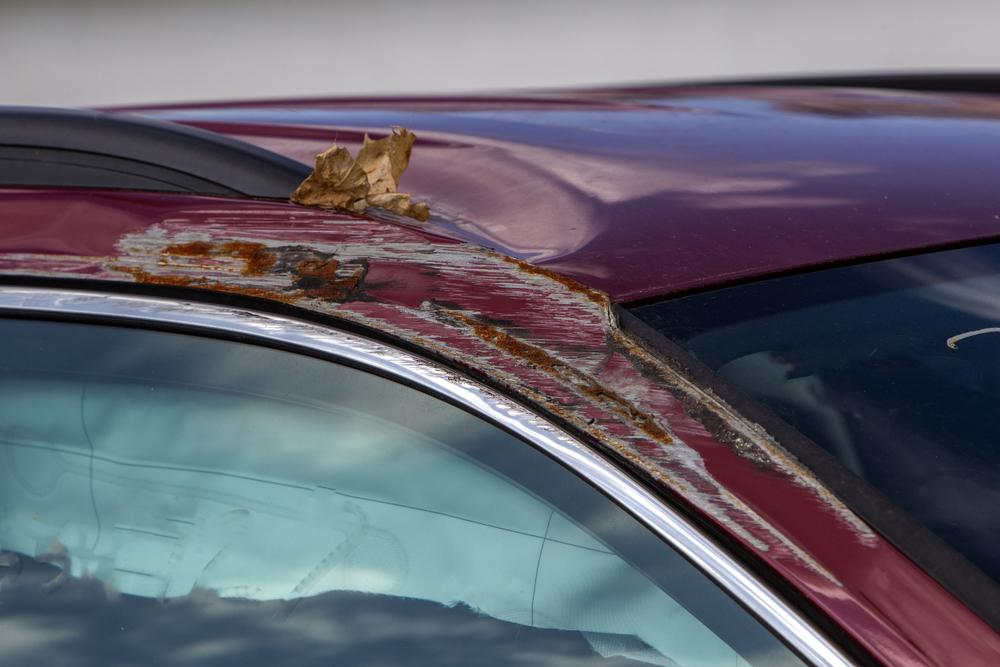dent: (399, 147, 596, 263)
scratch: (0, 194, 884, 592)
